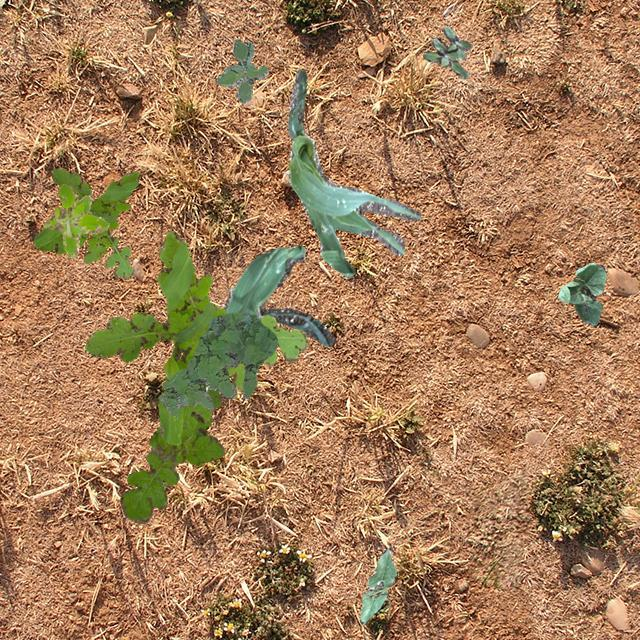crop: (284, 68, 422, 276), (222, 244, 334, 346), (358, 548, 396, 624), (558, 262, 604, 324)
weed: (85, 230, 308, 443), (120, 386, 223, 522), (158, 312, 276, 416), (33, 166, 138, 278), (42, 182, 108, 256), (215, 38, 268, 102), (422, 26, 471, 78)
